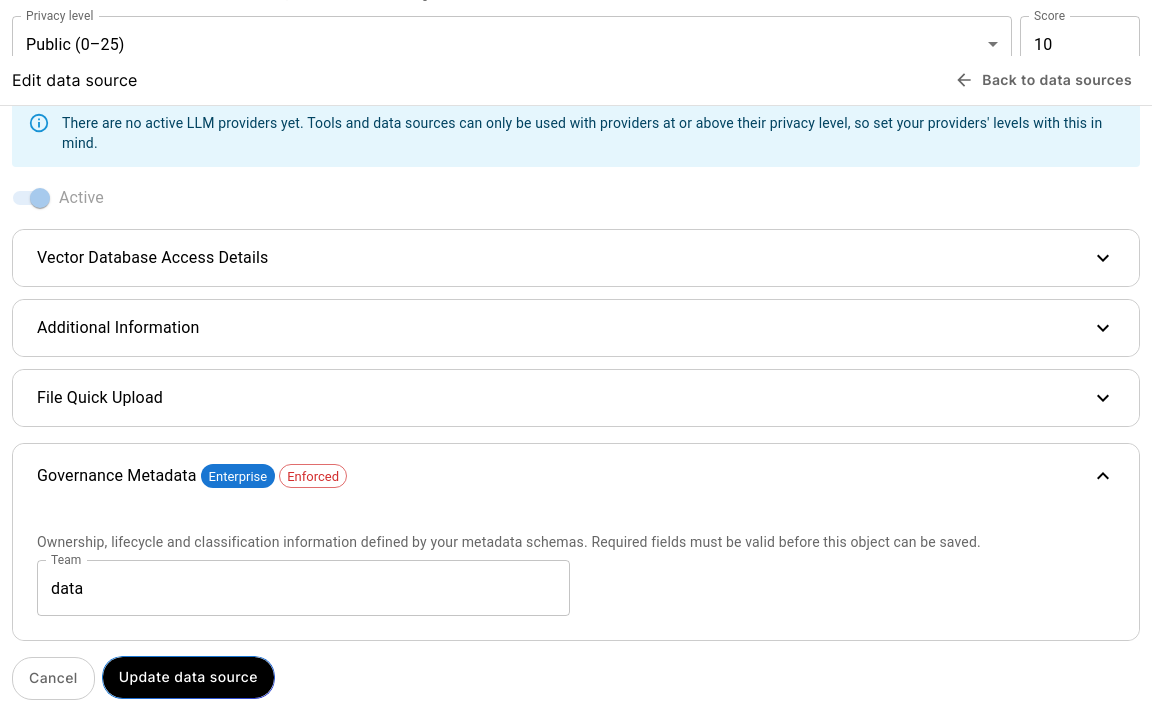
Scenario: DatasourceForm governed metadata embedding › maps a 422 onto the field and scrolls to the section
(page scrolled)
Expected: the field labelled "Team" is shown, [37,560,570,616]
Click the button "Update data source".
click(188, 678)  # box [103,657,274,698]
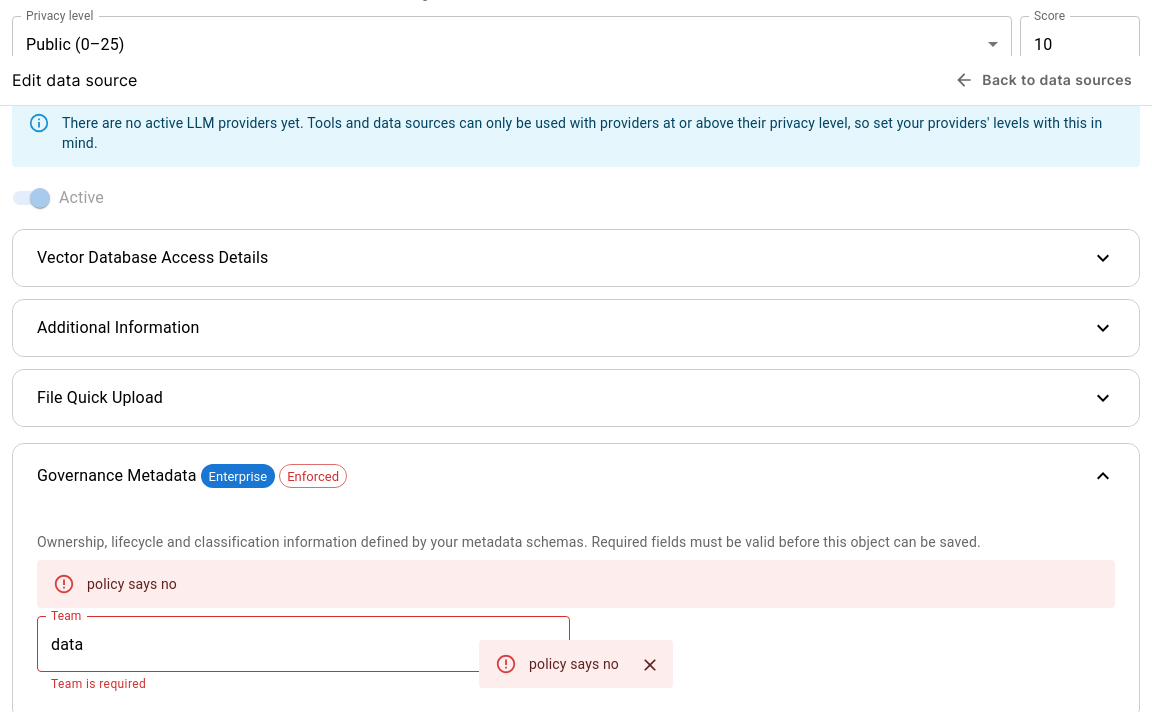
Now the text "Team is required" is shown, box [51,677,146,691]
